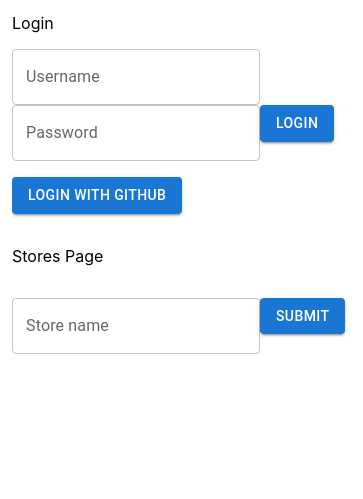
Scenario: Stores Component › should show new store after clicking on submit button
The width and height of the screenshot is (363, 499).
Step 1. Type "testStore" into the field with test id "store-name" → (136, 326), box top-left (12, 298), bottom-right (260, 354)
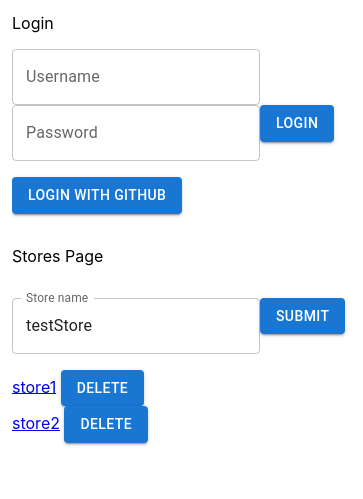
Step 2. Click the button "Submit" → (303, 316), box top-left (260, 298), bottom-right (345, 334)
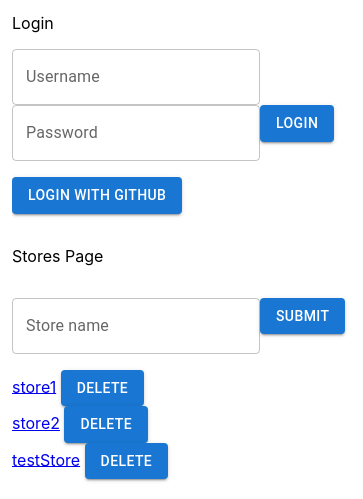
expect the link "testStore" is shown: met, box top-left (12, 449), bottom-right (80, 469)
